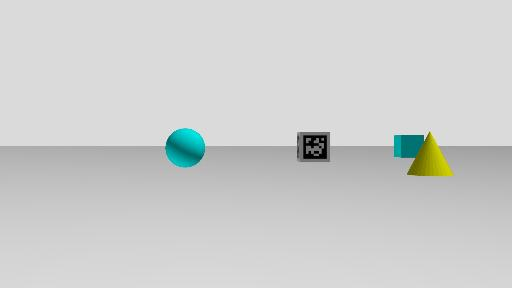yellow_cone: (406, 131, 455, 177)
